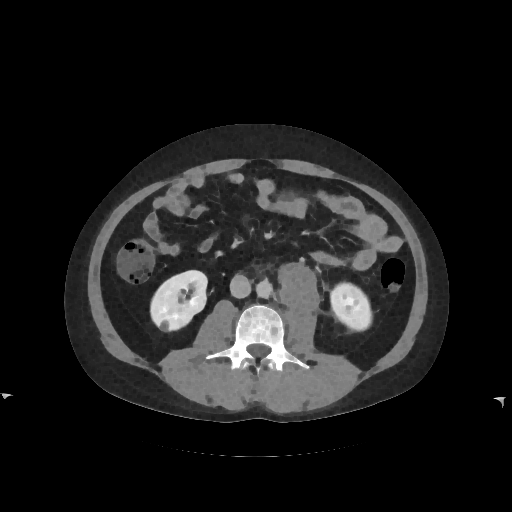Lesion: (276, 262, 320, 317), (157, 318, 171, 332)
